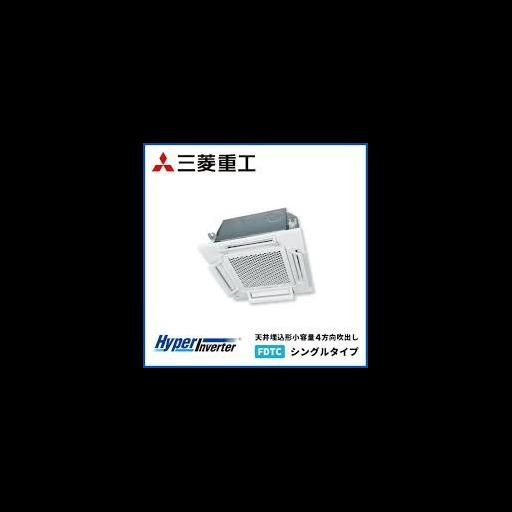4-way-ac: (202, 230, 312, 304)
